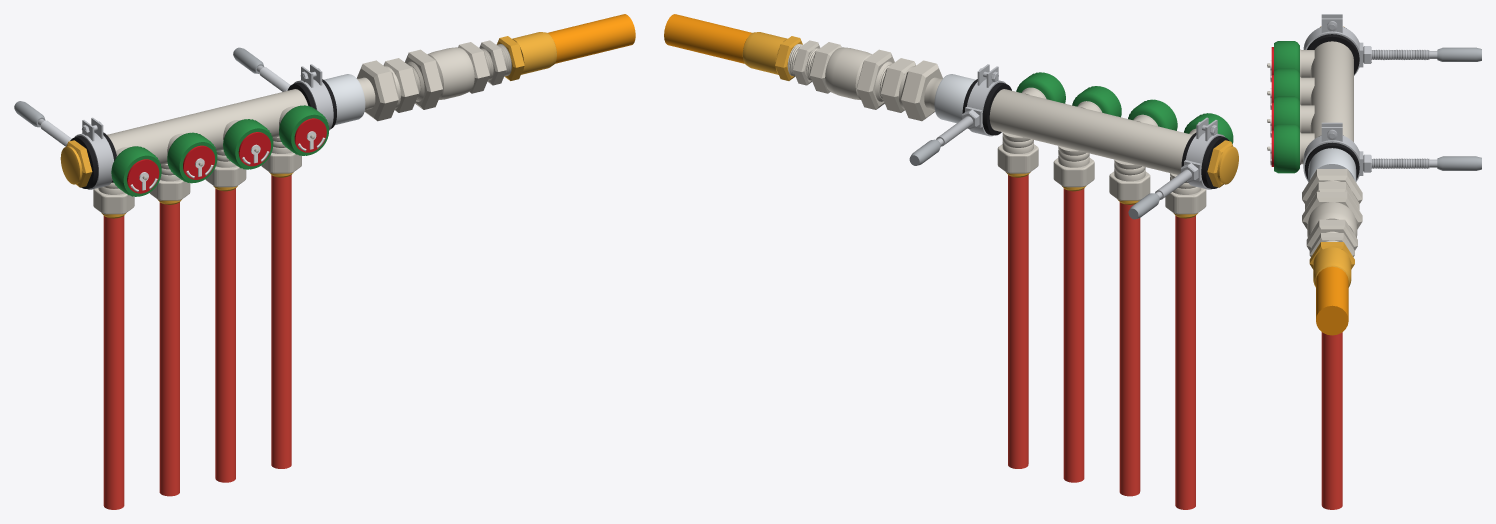
Rendered from water_manifold_hw4_st.glb.
3 views of the same model, side by side, from view 1: azimuth 30°, elevation 25°; view 2: azimuth 150°, elevation 25°; view 3: azimuth 270°, elevation 25° (orthographic).
Visible parts, largest first — view 1: труба16, труба16.001, труба16.002, труба16.003, корпус, подающая труба, корпус крана, сгон гайка, удлинитель, гильза, колпак, колпак.002 (+15 smaller); view 2: корпус, труба16.002, труба16.001, труба16.003, труба16, подающая труба, корпус крана, сгон гайка, удлинитель, гильза, гайка американки, сгон корпус (+12 smaller); view 3: труба16.003, корпус, подающая труба, колпак.003, удлинитель, корпус крана, сгон гайка, гильза, гайка американки, кран ВР, колпак.001, колпак.002 (+16 smaller).
Part boxes in pixels (x1=…): труба16: x1=103, y1=216, x2=124, y2=509; труба16.001: x1=159, y1=202, x2=179, y2=496; труба16.002: x1=215, y1=188, x2=235, y2=482; труба16.003: x1=271, y1=175, x2=291, y2=468; корпус: x1=107, y1=89, x2=307, y2=165; подающая труба: x1=548, y1=14, x2=635, y2=63; корпус крана: x1=427, y1=47, x2=474, y2=99; сгон гайка: x1=356, y1=60, x2=398, y2=121; удлинитель: x1=324, y1=74, x2=365, y2=124; гильза: x1=512, y1=32, x2=556, y2=74; колпак: x1=111, y1=146, x2=161, y2=196; колпак.002: x1=223, y1=119, x2=273, y2=169; корпус: x1=989, y1=89, x2=1192, y2=174; труба16.002: x1=1063, y1=188, x2=1084, y2=482; труба16.001: x1=1119, y1=202, x2=1140, y2=496; труба16.003: x1=1008, y1=175, x2=1028, y2=468; труба16: x1=1175, y1=216, x2=1195, y2=509; подающая труба: x1=664, y1=14, x2=751, y2=63; корпус крана: x1=825, y1=47, x2=871, y2=99; сгон гайка: x1=900, y1=60, x2=942, y2=121; удлинитель: x1=934, y1=74, x2=975, y2=123; гильза: x1=742, y1=32, x2=787, y2=74; гайка американки: x1=856, y1=49, x2=894, y2=109; сгон корпус: x1=880, y1=58, x2=915, y2=112; труба16.003: x1=1321, y1=332, x2=1342, y2=509; корпус: x1=1310, y1=41, x2=1353, y2=141; подающая труба: x1=1316, y1=266, x2=1348, y2=335; колпак.003: x1=1274, y1=124, x2=1299, y2=173; удлинитель: x1=1308, y1=148, x2=1356, y2=182; корпус крана: x1=1307, y1=202, x2=1357, y2=237; сгон гайка: x1=1302, y1=169, x2=1362, y2=203; гильза: x1=1313, y1=247, x2=1351, y2=287; гайка американки: x1=1302, y1=192, x2=1362, y2=229; кран ВР: x1=1306, y1=219, x2=1357, y2=250; колпак.001: x1=1274, y1=68, x2=1299, y2=100; колпак.002: x1=1274, y1=96, x2=1299, y2=128.
Bounding box in the file's own units: 0.5 × 0.3322 × 0.1637.
